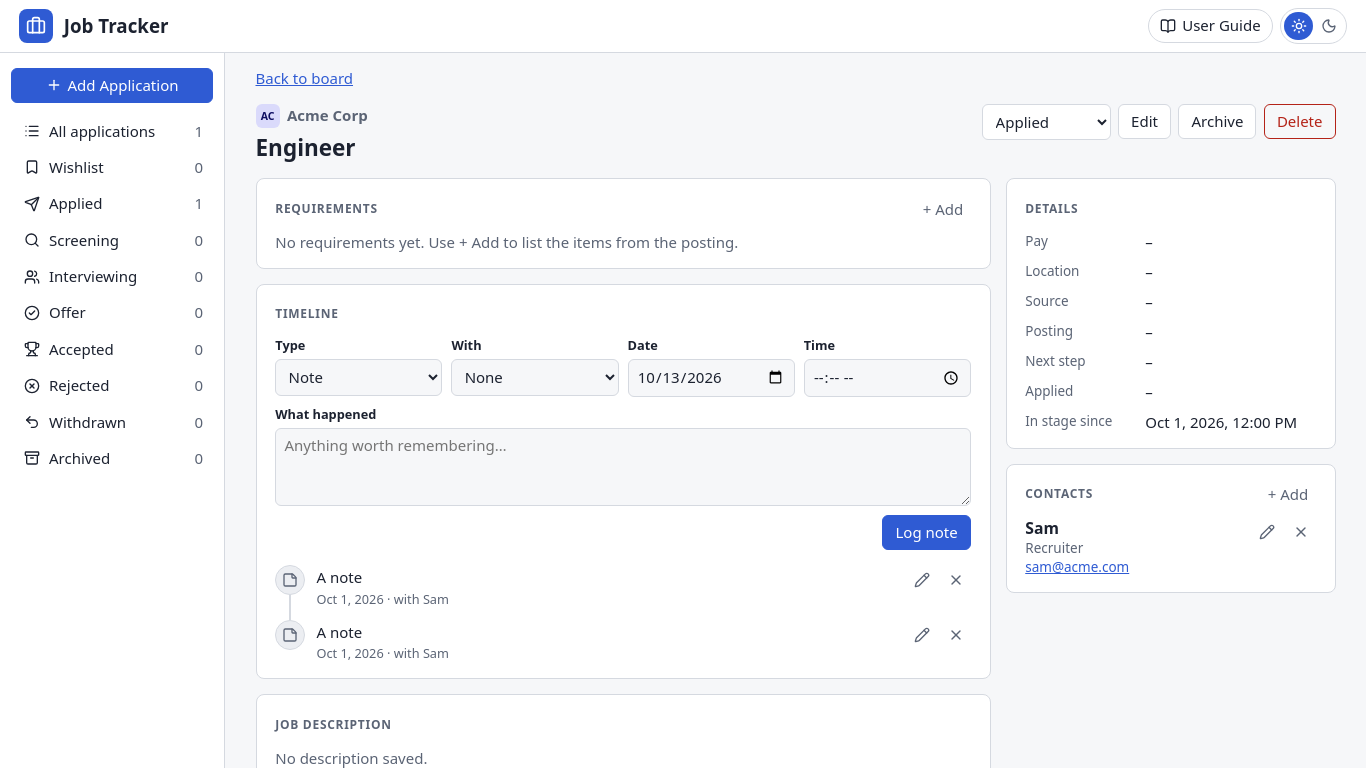
it: editing and deleting contacts › asks first, and says how many entries mention the contact (AC-7)
Expected: the element "Contacts" is shown, [1006,464,1336,593]
Expected: the text "Sam" is shown, [1025,517,1059,539]
Click the button named "Delete".
click(1301, 532)  # box [1286,517,1316,547]
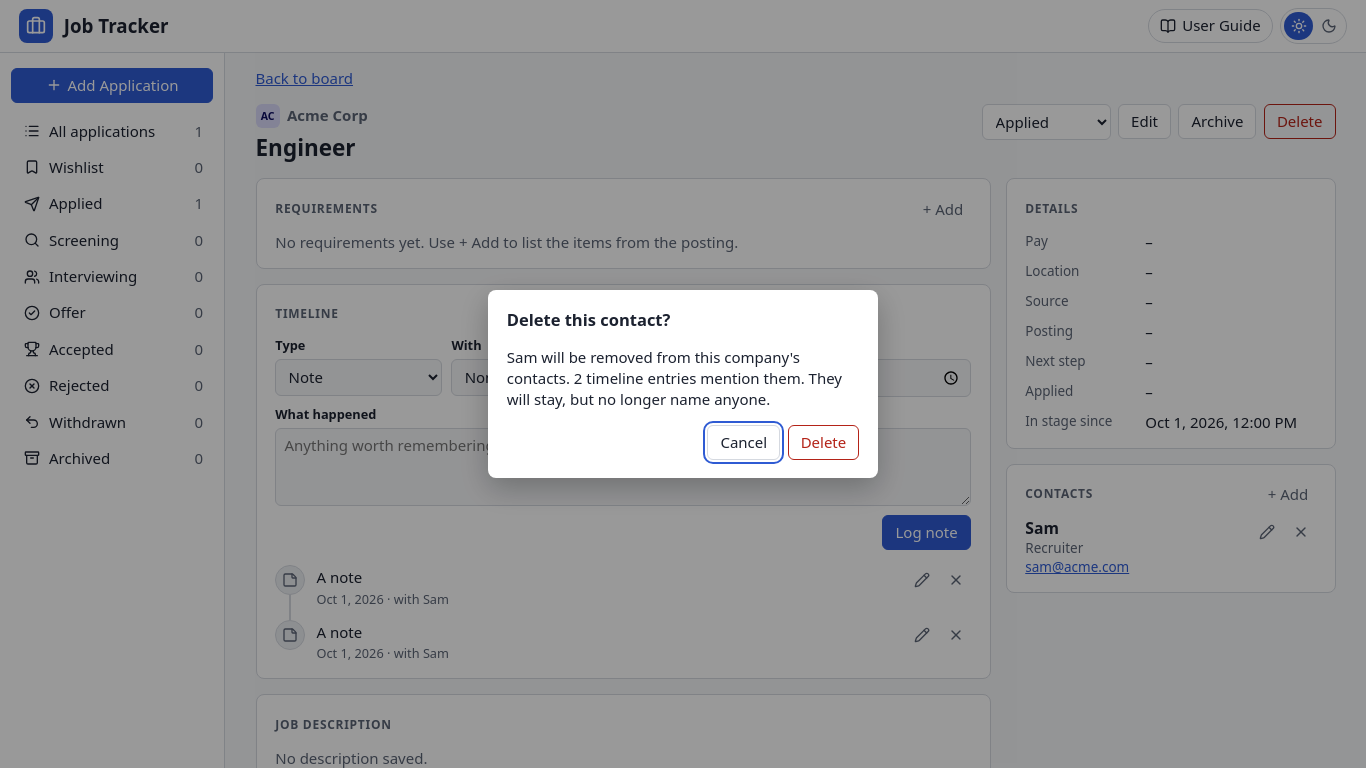
Now the dialog shows "2 timeline entries mention them", box [507,346,842,408]
Now the dialog shows "They will stay, but no longer name anyone", box [507,346,842,408]
Click the button "Cancel".
click(744, 442)  # box [707,424,780,460]
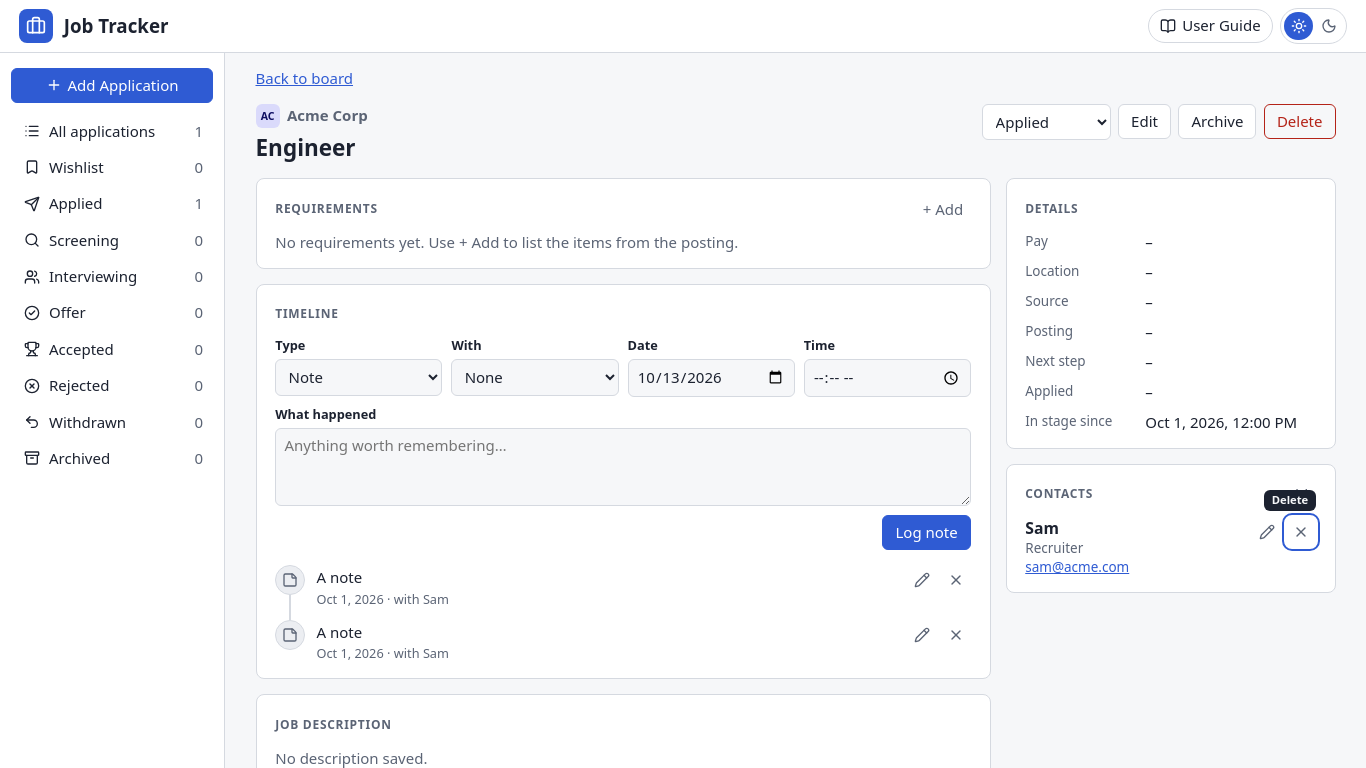
Click the button named "Delete".
click(1301, 532)  # box [1286,517,1316,547]
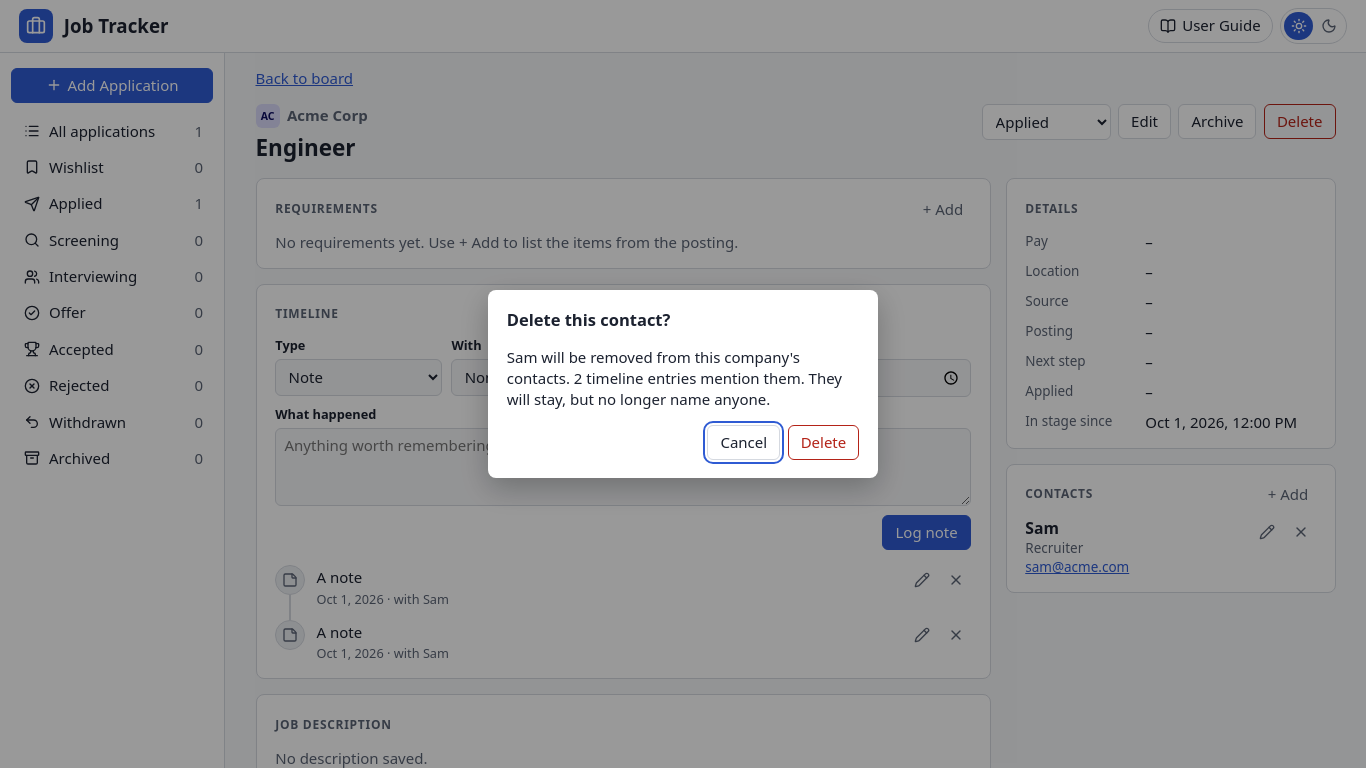
Click the button "Delete".
click(823, 442)  # box [788,424,859,460]
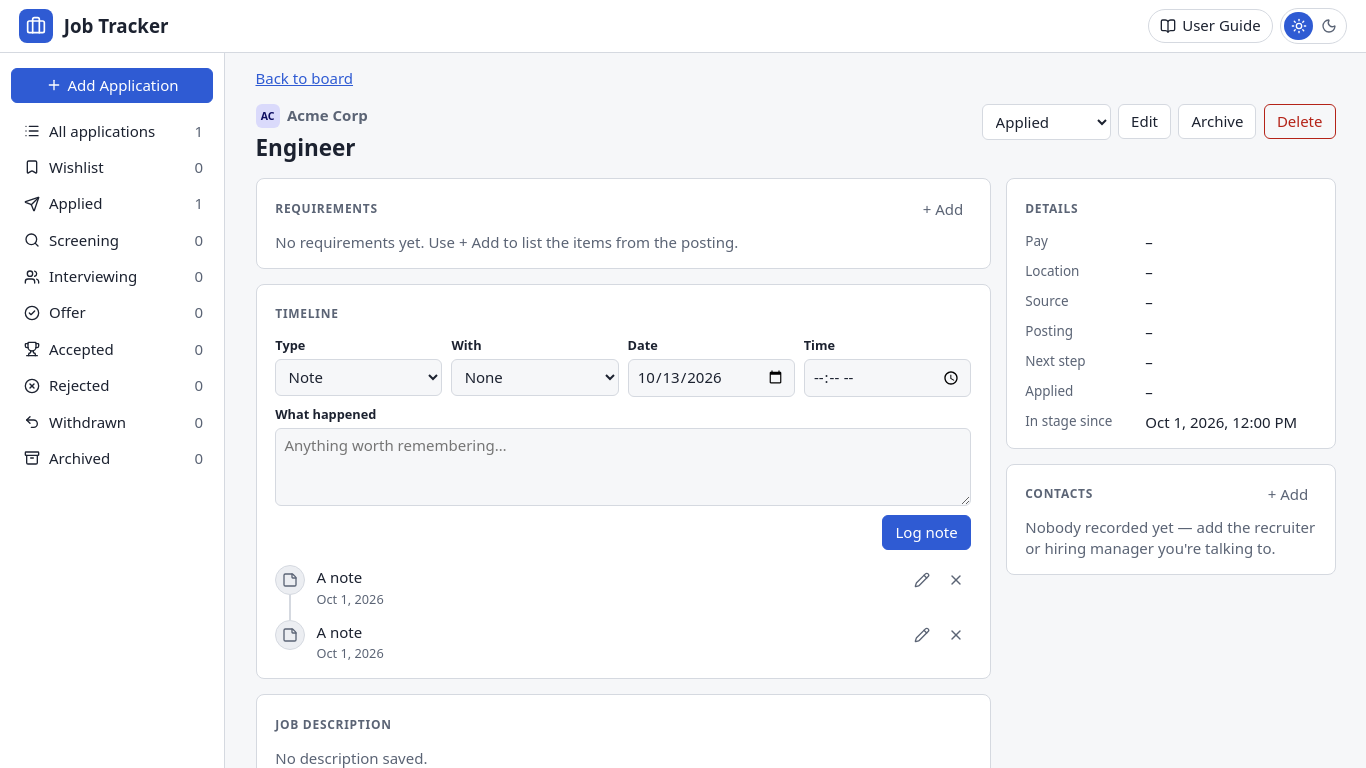
Now the text "Sam" is gone
